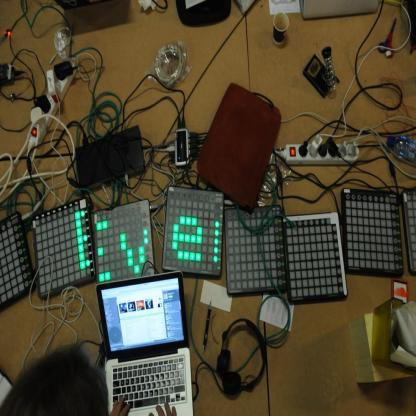board: (95, 270, 191, 416), (379, 16, 398, 58)
